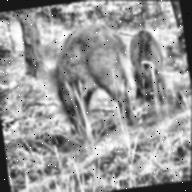boar: (36, 17, 141, 155), (127, 26, 177, 113)
